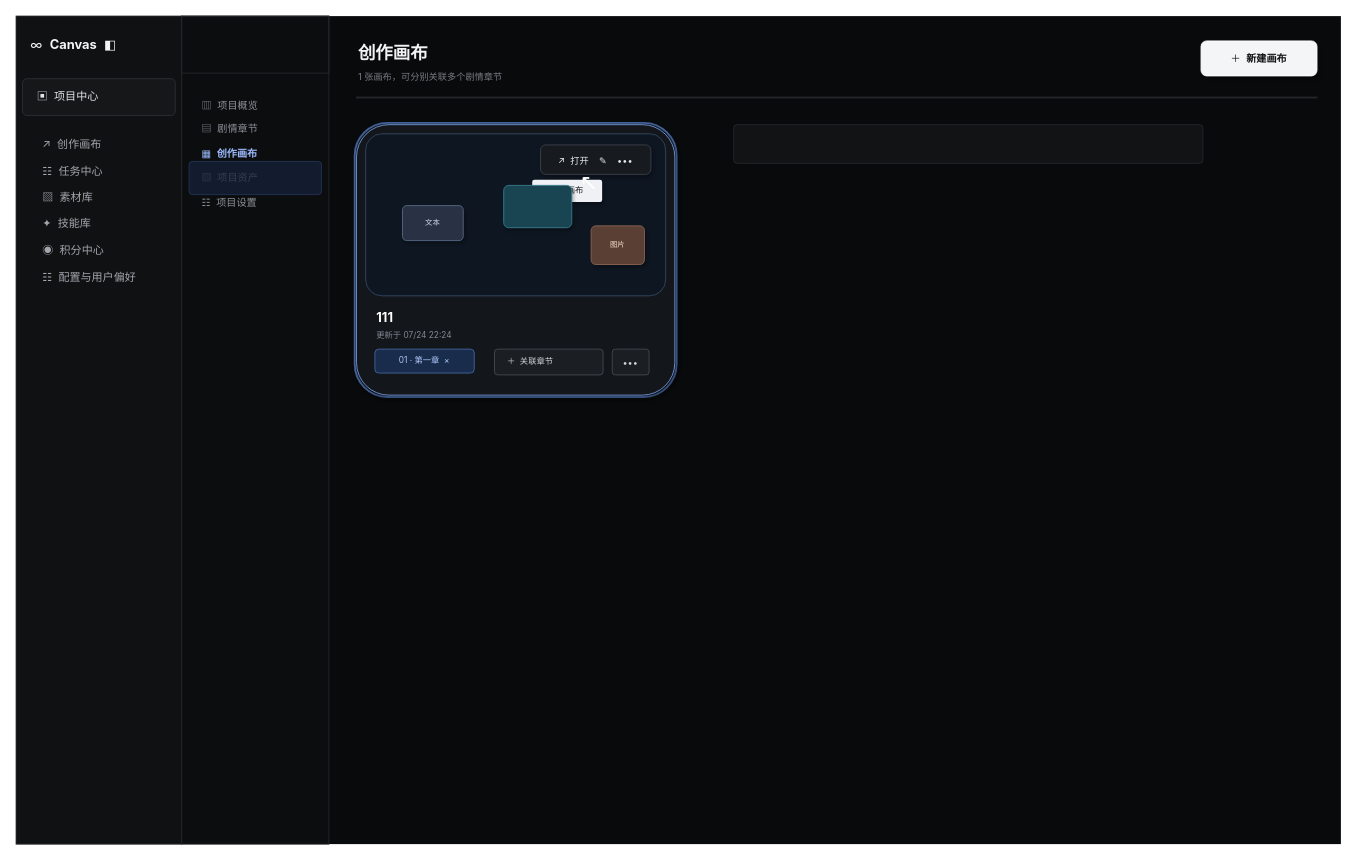
Some shapes in this 1357 by 860 pixel diagram are drawn without their labels. Here are the shapes that lost their labels. From the top down, the centre of each, then its label:
the point at 255,44: ‹ ▱ 测试项目 1 ● 进行中
the point at 968,143: 悬停反馈：卡片上移 2px，描边变亮，节点表面增强；快捷工具条 160ms 淡入，离开即消失。
the point at 538,207: 分镜
